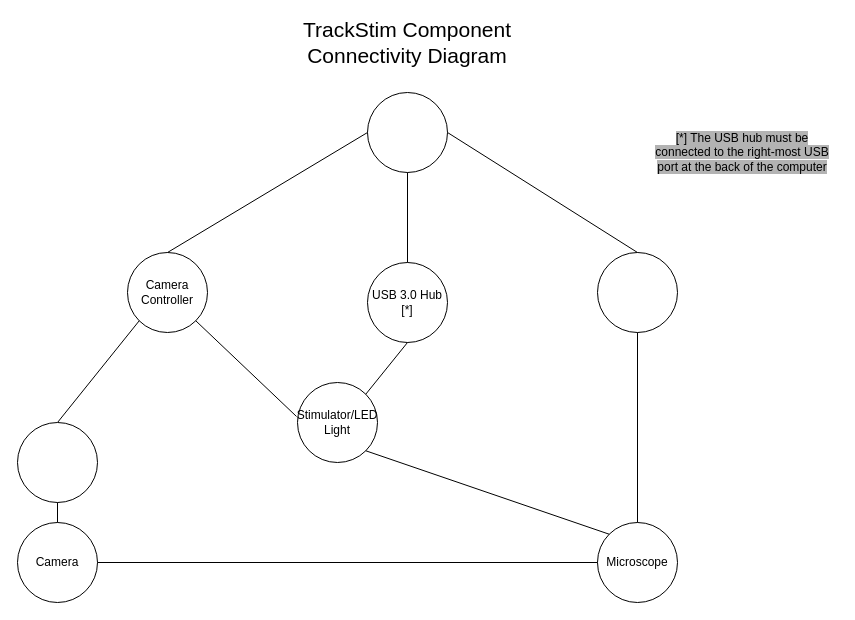
This 855x620 diagram has some shape labels left out. Here are the shapes that lost their labels. From the top down, the centre of each, then its label:
the point at 407,132: Computer
the point at 637,292: XY Stage
the point at 57,462: Dual View Splitter
